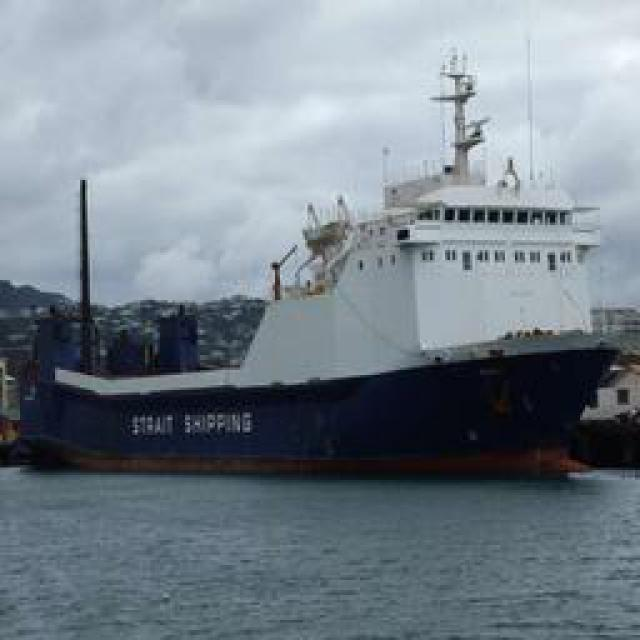Ship: (25, 7, 623, 480)
